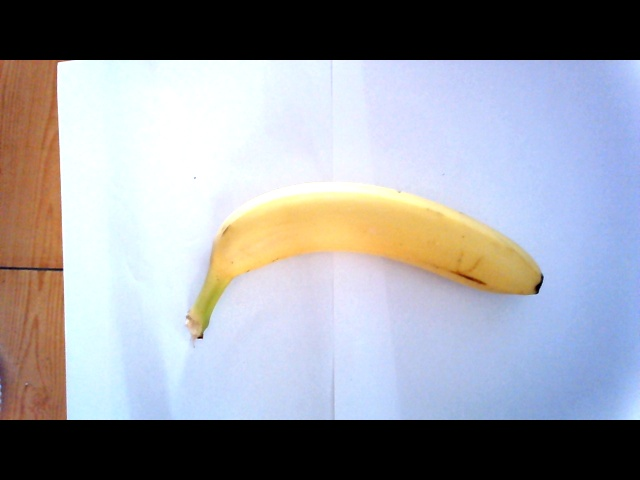banana: (192, 176, 557, 307)
